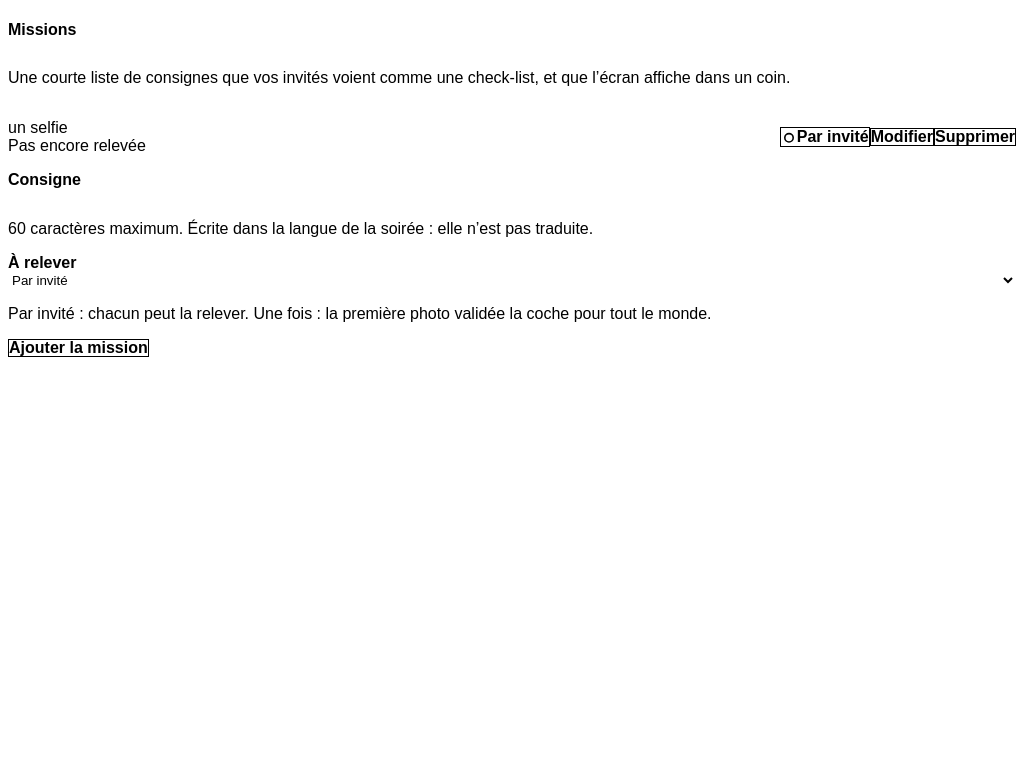
Test: MissionsPanel › asks before deleting, and says the photographs are safe
The width and height of the screenshot is (1024, 768).
Expected: the list item is shown, [8, 118, 1016, 154]
Click the button "Supprimer".
click(975, 136)  # box [934, 128, 1016, 146]
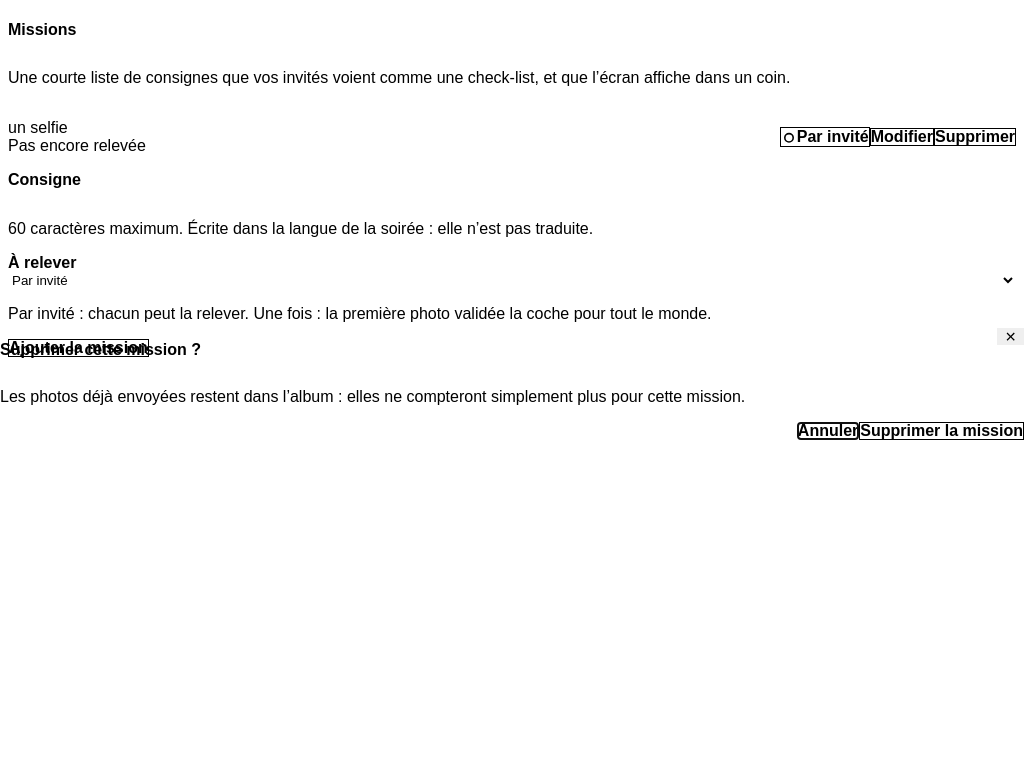
Result: the text "Les photos déjà envoyées restent dans l’album : elles ne compteront simplement plus pour cette mission." is shown at [0, 388, 745, 405]
